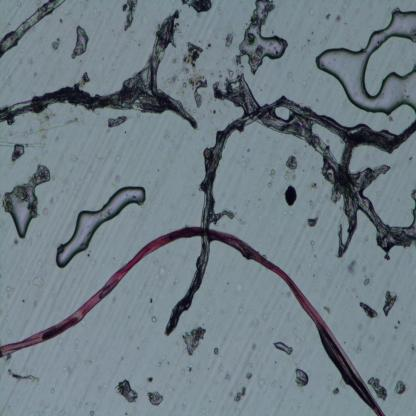Air bubble: (314, 5, 416, 119), (56, 186, 145, 268), (241, 0, 289, 72), (5, 161, 50, 234), (75, 24, 89, 57), (273, 338, 292, 354)
Background material: (180, 41, 208, 110), (0, 128, 36, 158), (182, 324, 206, 356), (115, 376, 139, 404), (367, 375, 388, 402), (381, 290, 397, 318), (178, 360, 199, 381), (183, 1, 213, 15), (106, 112, 130, 129), (359, 300, 379, 320), (266, 162, 280, 190), (323, 8, 347, 22), (284, 182, 298, 206), (146, 389, 163, 407), (294, 368, 310, 387), (234, 385, 249, 404), (285, 152, 299, 172), (155, 354, 170, 370), (393, 378, 406, 396), (31, 273, 45, 289), (309, 175, 320, 195), (306, 214, 320, 228), (147, 310, 159, 324), (347, 258, 356, 275), (224, 32, 234, 47), (223, 67, 235, 79), (81, 73, 91, 87), (243, 368, 252, 383), (52, 36, 61, 51), (146, 292, 155, 306), (321, 304, 333, 313), (332, 385, 342, 395), (145, 372, 154, 382), (11, 282, 15, 300), (213, 346, 220, 356)
Cellulose filter fibre: (237, 73, 416, 250), (201, 91, 416, 226), (336, 122, 416, 260), (0, 74, 151, 121), (148, 10, 197, 126), (164, 236, 212, 336), (0, 1, 67, 57), (4, 361, 39, 383), (121, 2, 139, 31)
Cotton: (0, 225, 385, 415)
